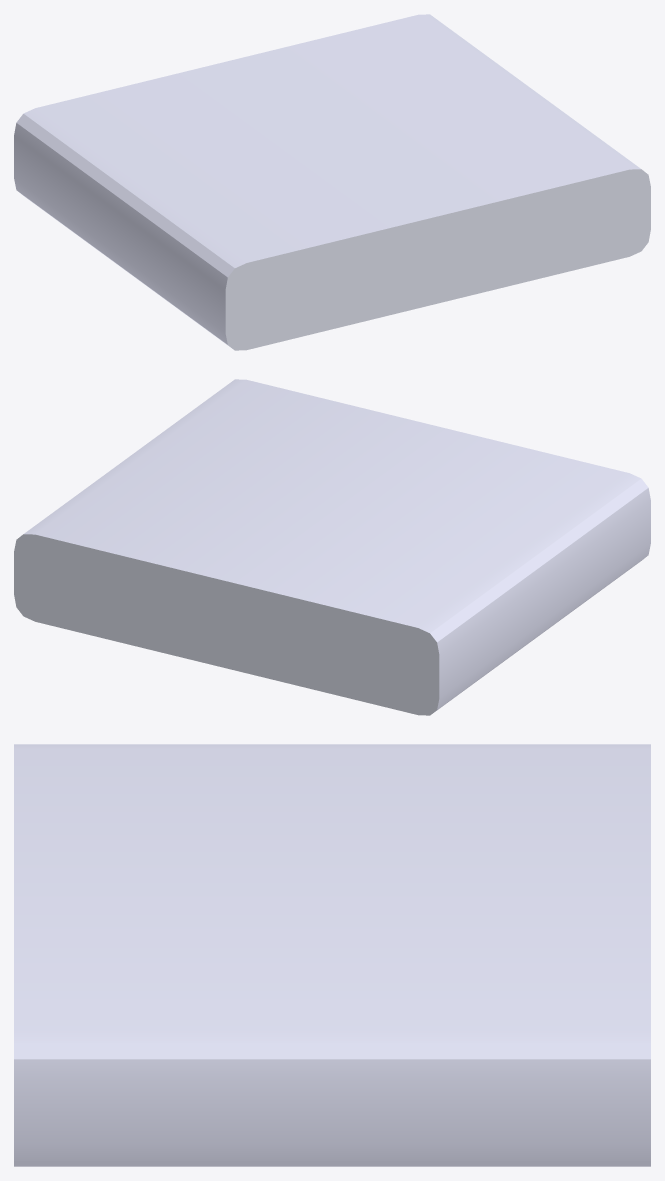
Rendered from 6942ced8-88a1-469e-b7e8-95d2979fbf8b.glb.
3 renders of one model, top to bottom at view 1: azimuth 30°, elevation 25°; view 2: azimuth 150°, elevation 25°; view 3: azimuth 270°, elevation 25°, orthographic. The views are drawn at different scales.
Visible parts, largest first — view 1: -_Soul_Grey; view 2: -_Soul_Grey; view 3: -_Soul_Grey.
Part boxes in pixels (left/top/right/bottom): -_Soul_Grey: left=14, top=14, right=650, bottom=350; -_Soul_Grey: left=14, top=379, right=650, bottom=715; -_Soul_Grey: left=14, top=744, right=650, bottom=1166.
Size of what is drawn, in the model's own units: 0.0523 by 0.0102 by 0.045.
2 materials, 2 textured.
